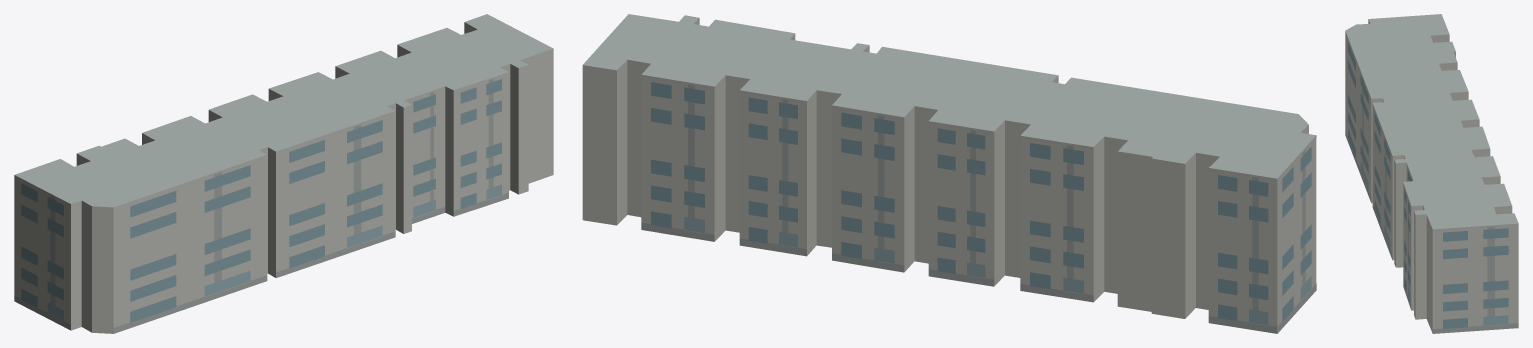
File: survey-upis-32720350.glb
3 views of the same model, side by side, from view 1: azimuth 30°, elevation 25°; view 2: azimuth 150°, elevation 25°; view 3: azimuth 270°, elevation 25° (orthographic). The views are drawn at different scales.
Visible parts, largest first — view 1: survey-upis-32720350.tmp; view 2: survey-upis-32720350.tmp; view 3: survey-upis-32720350.tmp.
Part boxes in pixels (<box>): survey-upis-32720350.tmp: <box>14,14,553,333</box>; survey-upis-32720350.tmp: <box>582,14,1316,333</box>; survey-upis-32720350.tmp: <box>1345,14,1518,333</box>.
Bounding box in the file's own units: 73.36 × 16.6 × 24.96.
